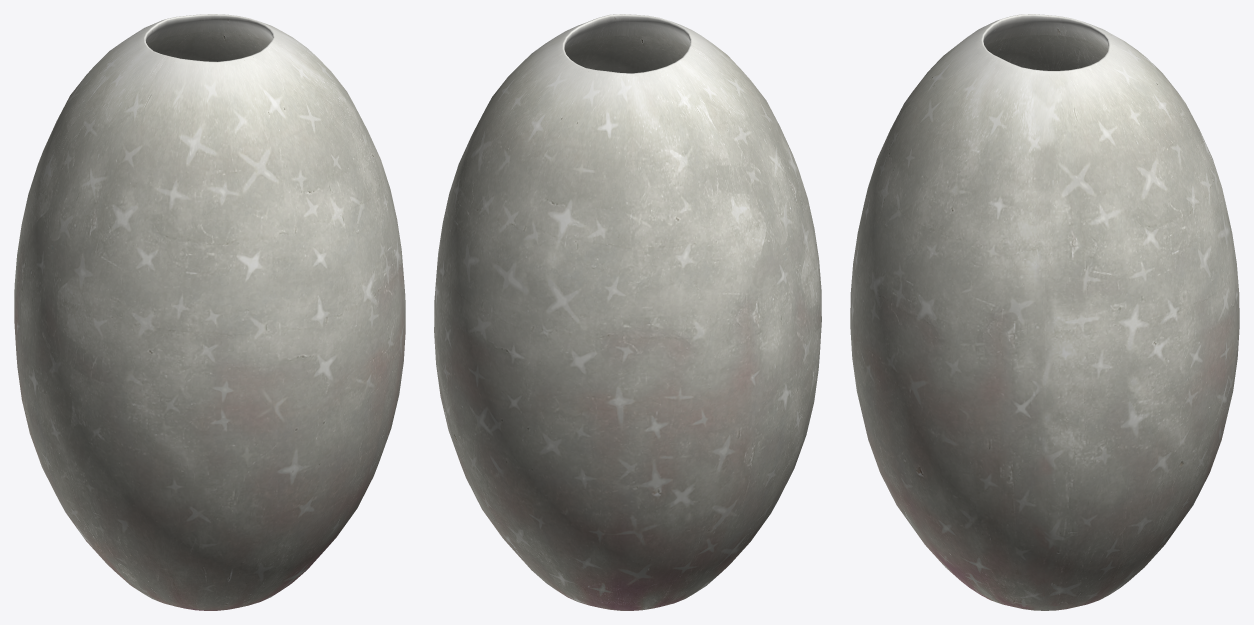
3 renders of one model, left to right at view 1: azimuth 30°, elevation 25°; view 2: azimuth 150°, elevation 25°; view 3: azimuth 270°, elevation 25°, orthographic.
Parts seen in each view (by area): view 1: Object_2; view 2: Object_2; view 3: Object_2.
Boxes of the visible parts, bbox=[...] form: Object_2: bbox=[14, 14, 405, 610]; Object_2: bbox=[434, 14, 821, 610]; Object_2: bbox=[850, 14, 1239, 610].
Bounding box in the file's own units: 3.33 × 5.25 × 3.33.
Materials: 1 (1 with a texture image).
